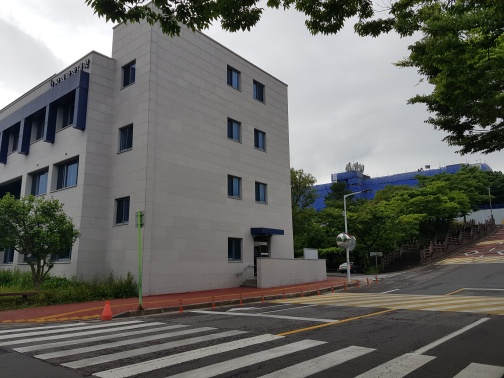College of Social Sciences: (1, 10, 332, 287)
